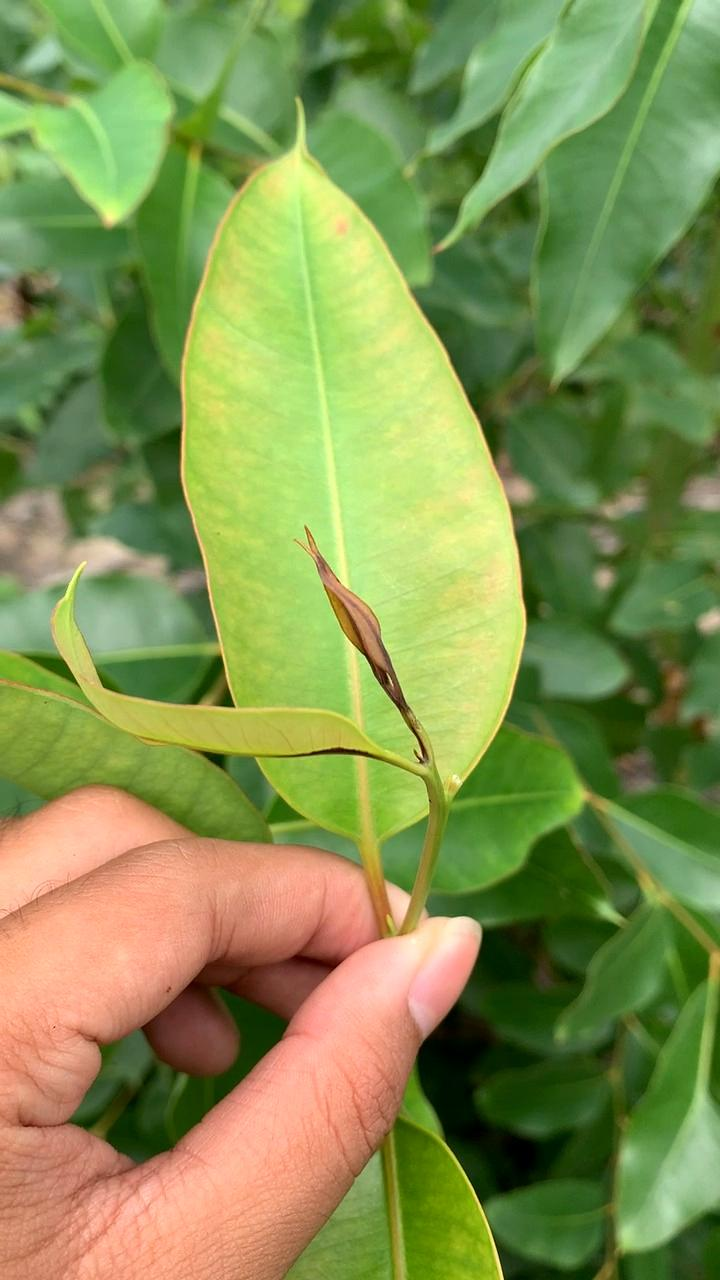Helopeltis-Withered Sprout: (305, 546, 443, 749)
